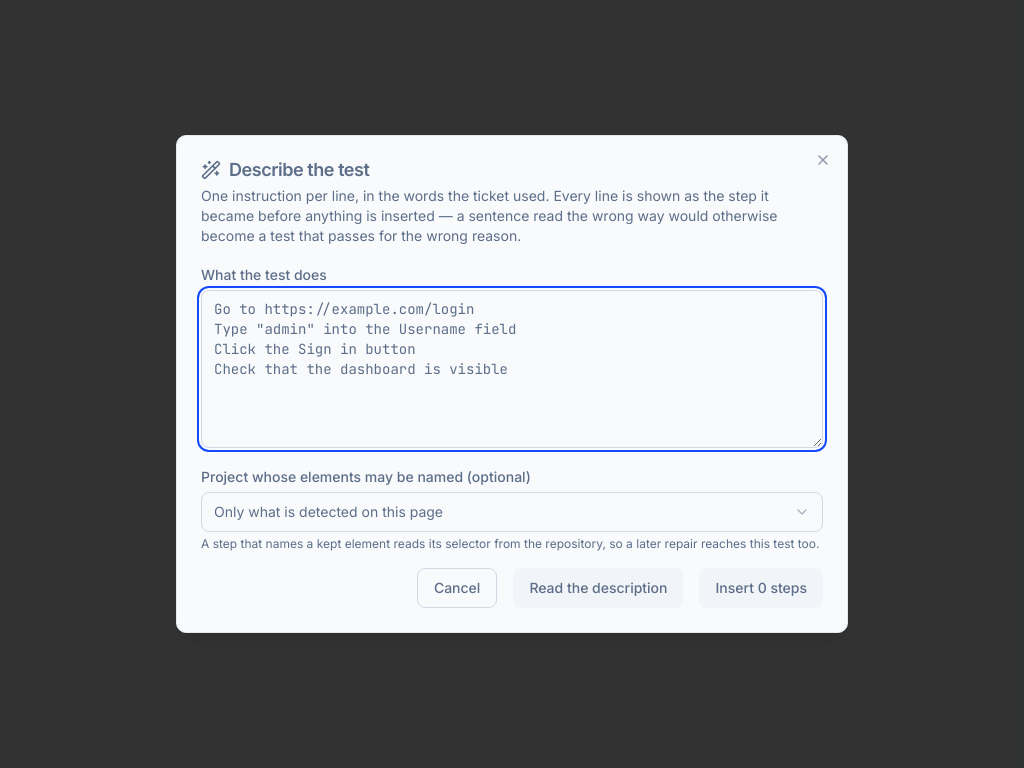
AuthorStepsModal › reports a refusal instead of an empty preview
Replace the text in the text box with test id "author-steps-text" with "Click Save". click: (512, 369)
box: 201,290 -> 823,448
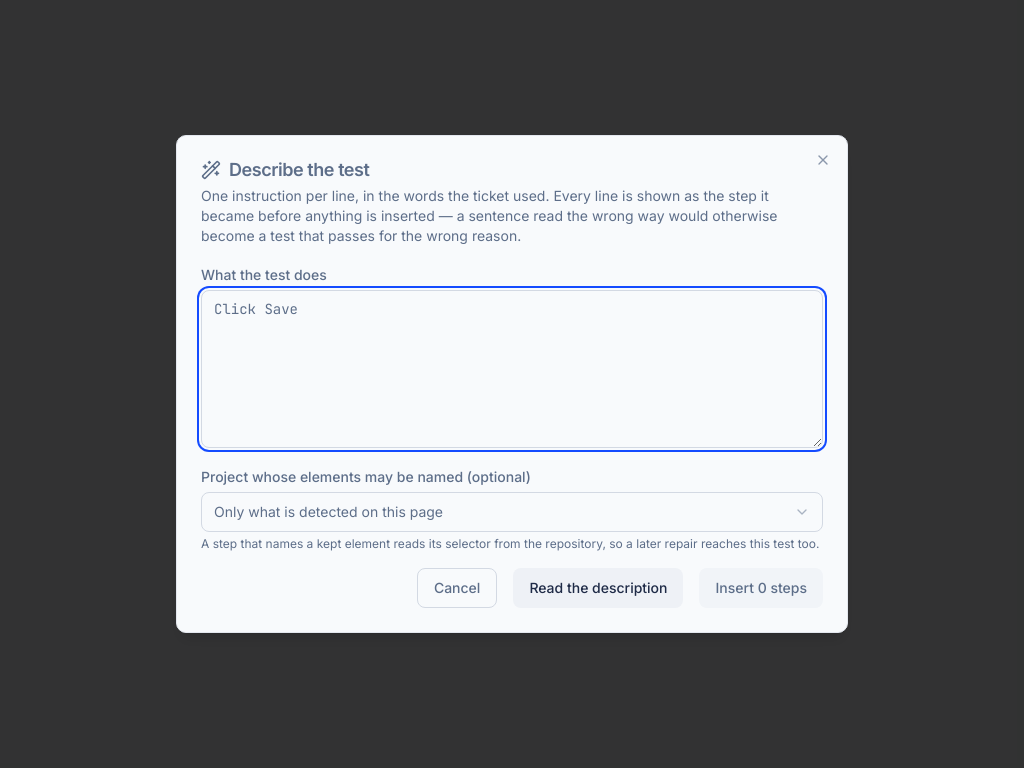
Click the button "Read the description". click: (598, 588)
box: 513,568 -> 684,608
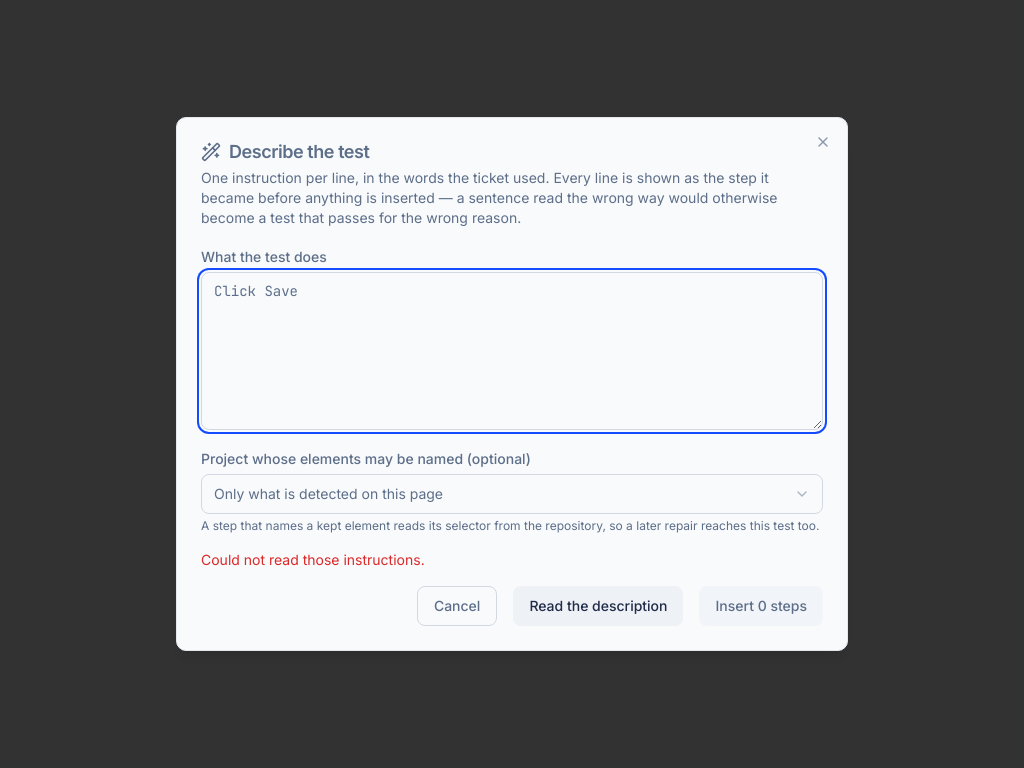
Expected: the text "Could not read those instructions." is shown, 201,551 -> 425,568
